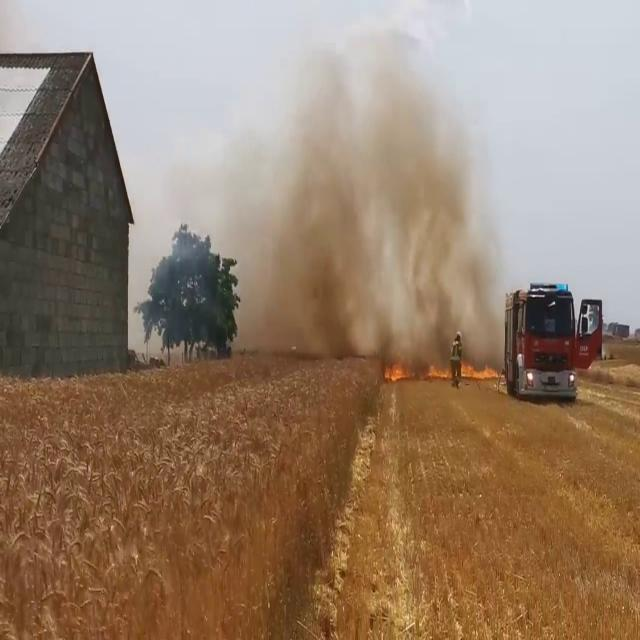Fire: (464, 357, 502, 382), (382, 356, 408, 384)
Smoke: (229, 6, 507, 362)
